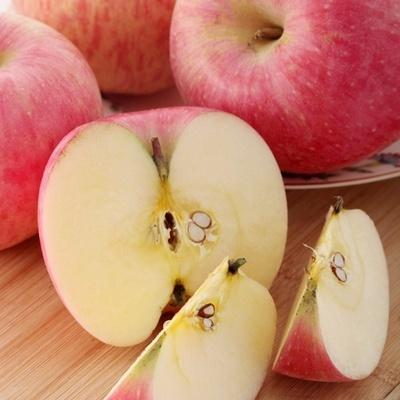apple: (17, 22, 277, 349), (40, 0, 381, 206), (0, 0, 218, 253), (175, 3, 400, 179), (2, 11, 100, 257), (270, 203, 395, 385), (27, 2, 180, 105)
